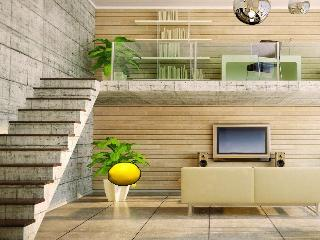lemon: (110, 163, 141, 185)
